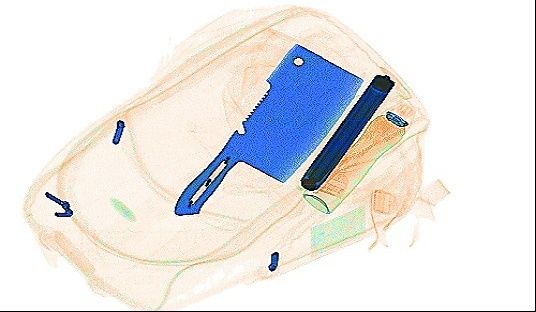knife: (171, 41, 364, 217)
pressure: (300, 99, 415, 215)
